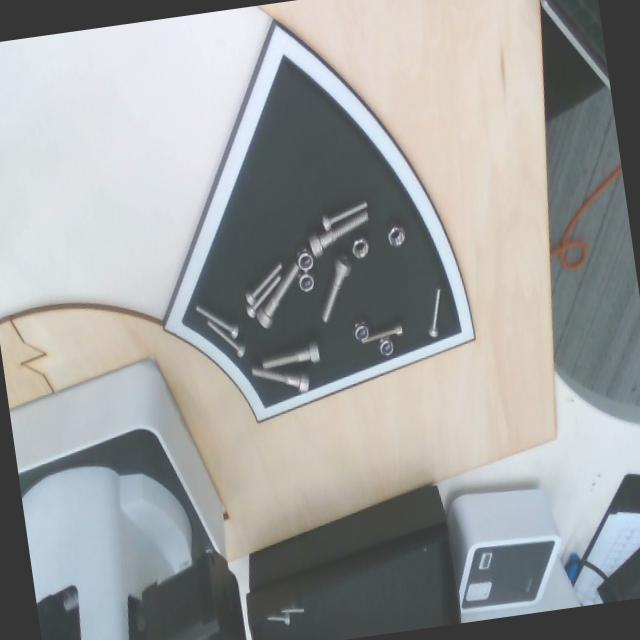big: (301, 198, 376, 261), (252, 256, 304, 331), (312, 256, 355, 327), (258, 339, 326, 378), (249, 364, 313, 398)
board: (120, 0, 490, 437)
circle: (384, 222, 410, 253), (293, 249, 318, 274), (297, 269, 319, 294), (352, 319, 373, 343), (352, 234, 371, 260), (377, 338, 398, 360)
small: (316, 190, 371, 233), (241, 257, 285, 308), (204, 315, 250, 360), (243, 270, 283, 320), (192, 302, 243, 341), (360, 322, 406, 346), (428, 288, 441, 338)
